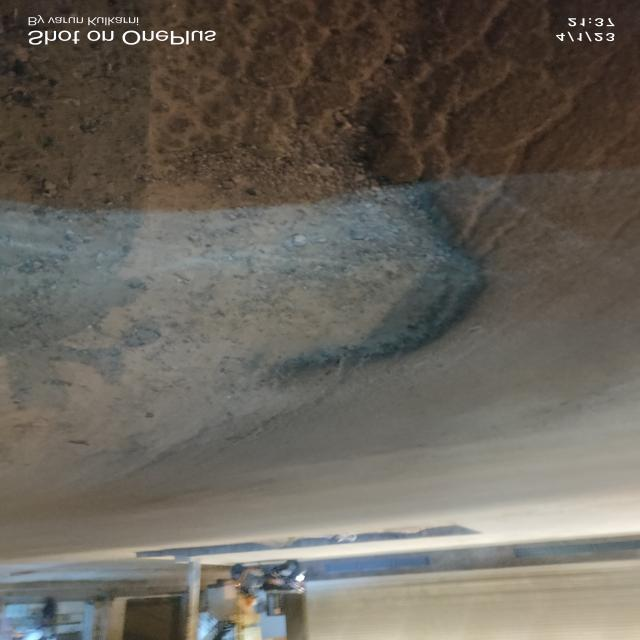potholes: (233, 95, 492, 388)
